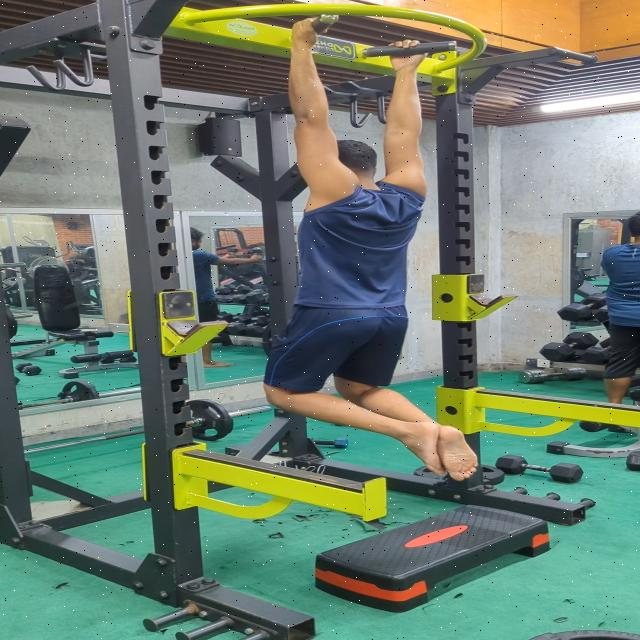Normal_PullUps: (259, 15, 486, 484)
